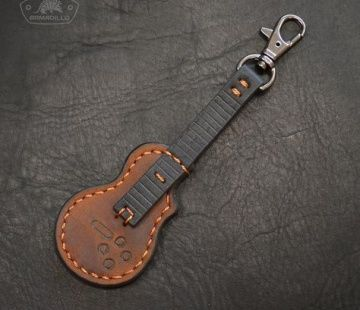cuero: (55, 64, 263, 289)
